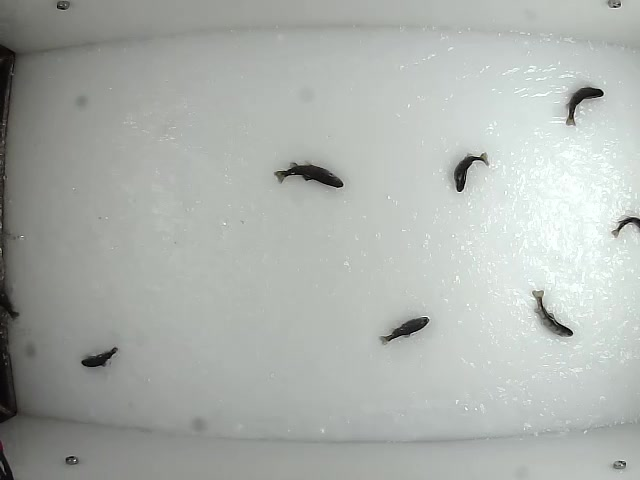fish: (532, 289, 577, 339), (273, 161, 347, 191), (376, 311, 431, 347), (563, 85, 605, 128), (452, 149, 491, 194), (79, 345, 123, 371)
